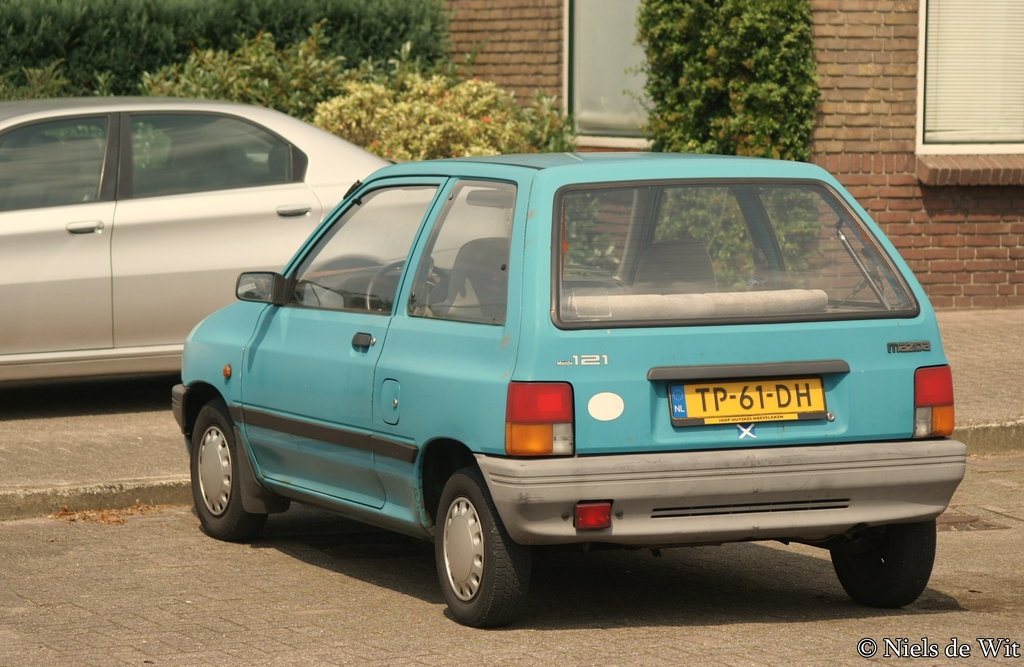license plate: (671, 384, 835, 423)
